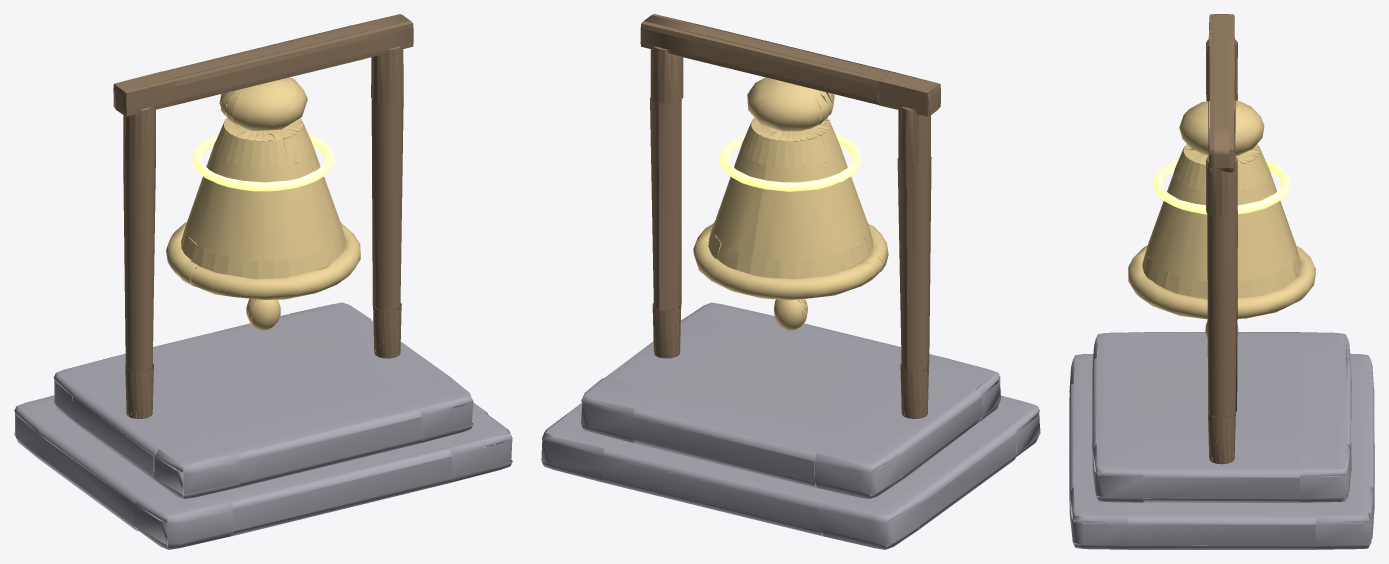
Rendered from sanctuary_bell.glb.
3 views of the same model, side by side, from view 1: azimuth 30°, elevation 25°; view 2: azimuth 150°, elevation 25°; view 3: azimuth 270°, elevation 25° (orthographic). The views are drawn at different scales.
Parts seen in each view (by area): view 1: plinth_step1, frame_post_0, bell_skirt, bell_lip, bell_crown, bell_runeband, clapper_ball; view 2: plinth_step1, frame_post_0, bell_skirt, bell_lip, bell_crown, bell_runeband, clapper_ball; view 3: plinth_step1, frame_post_0, bell_skirt, bell_lip, bell_crown, bell_runeband.
Part boxes in pixels (bbox=[...]): plinth_step1: bbox=[14, 302, 512, 549]; frame_post_0: bbox=[113, 14, 413, 418]; bell_skirt: bbox=[181, 117, 345, 278]; bell_lip: bbox=[166, 222, 360, 299]; bell_crown: bbox=[219, 77, 307, 130]; bell_runeband: bbox=[192, 133, 334, 191]; clapper_ball: bbox=[246, 298, 280, 330]; plinth_step1: bbox=[541, 302, 1040, 549]; frame_post_0: bbox=[640, 14, 940, 418]; bell_skirt: bbox=[708, 117, 873, 278]; bell_lip: bbox=[693, 223, 888, 300]; bell_crown: bbox=[747, 77, 834, 131]; bell_runeband: bbox=[720, 133, 861, 191]; clapper_ball: bbox=[774, 298, 807, 330]; plinth_step1: bbox=[1069, 332, 1374, 549]; frame_post_0: bbox=[1206, 14, 1237, 464]; bell_skirt: bbox=[1142, 144, 1301, 298]; bell_lip: bbox=[1128, 245, 1315, 319]; bell_crown: bbox=[1179, 100, 1264, 156]; bell_runeband: bbox=[1153, 159, 1289, 214].
Bounding box in the file's own units: 2.59 × 2.79 × 1.99.
